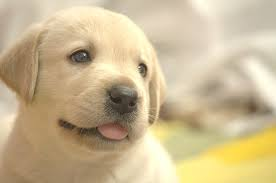dog: (1, 6, 180, 183)
